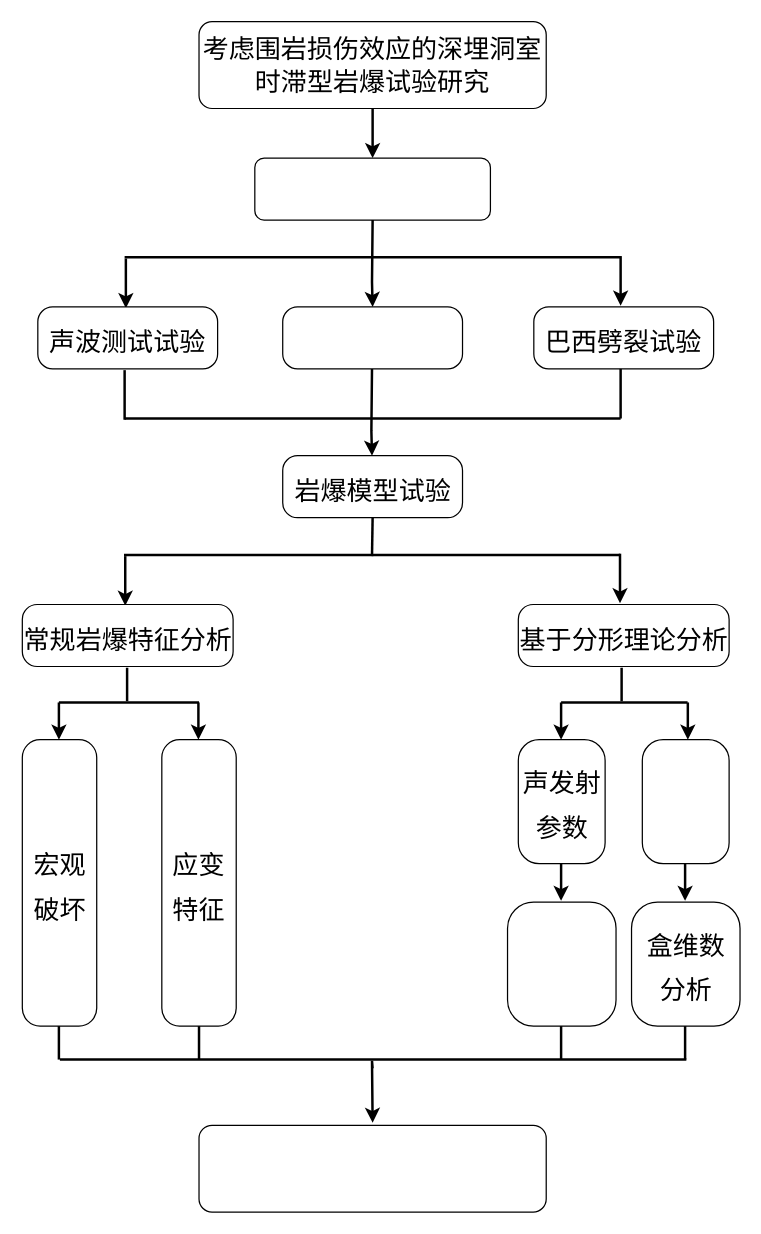
The diagram is 761 pixels wide and 1234 high, and some of its shapes have lost their labels. Here are the shapes that lost their labels. From the top down, the centre of each, then its label:
At (x=372, y=188): "弱化区域材料选取".
At (x=372, y=337): "单轴压缩实验".
At (x=685, y=801): "洞壁展开图像".
At (x=561, y=963): "关联维数分析".
At (x=372, y=1168): "考虑围岩损伤效应的深埋洞室时滞型岩爆孕育特征".
